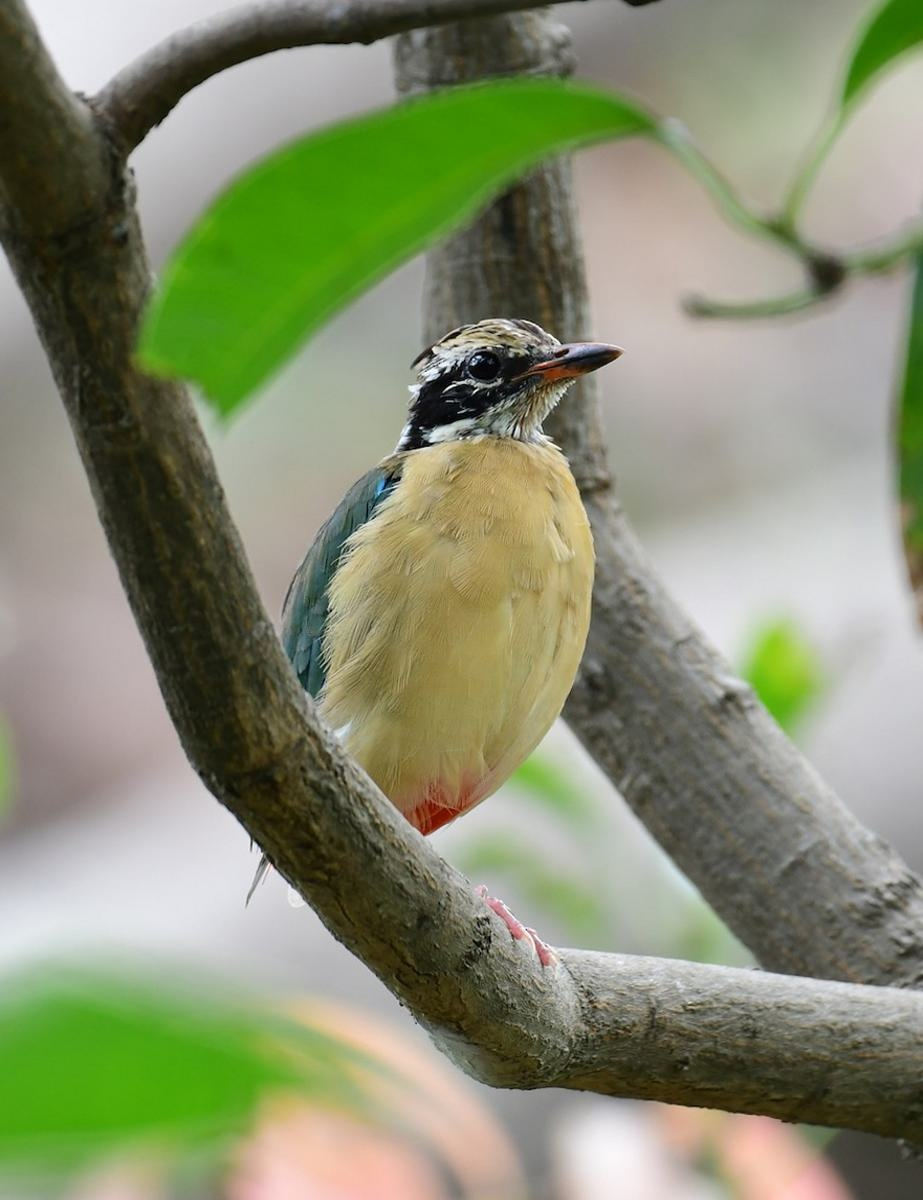pitta: (250, 262, 626, 882)
